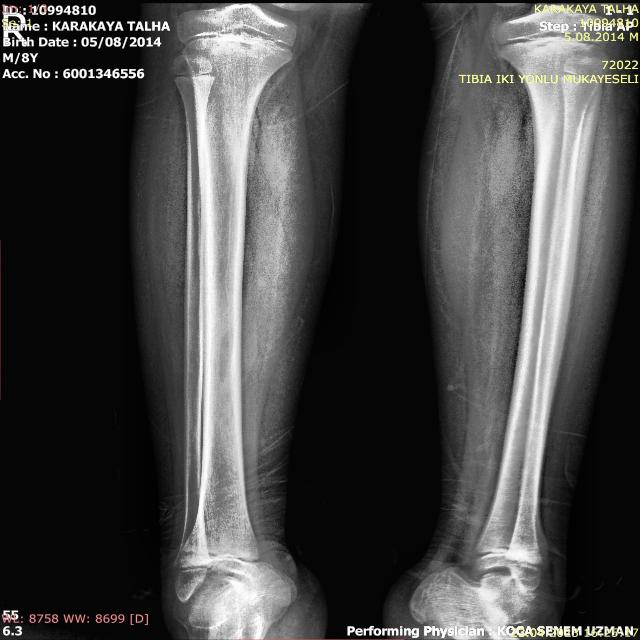Not_Fracture: (144, 1, 607, 635)
